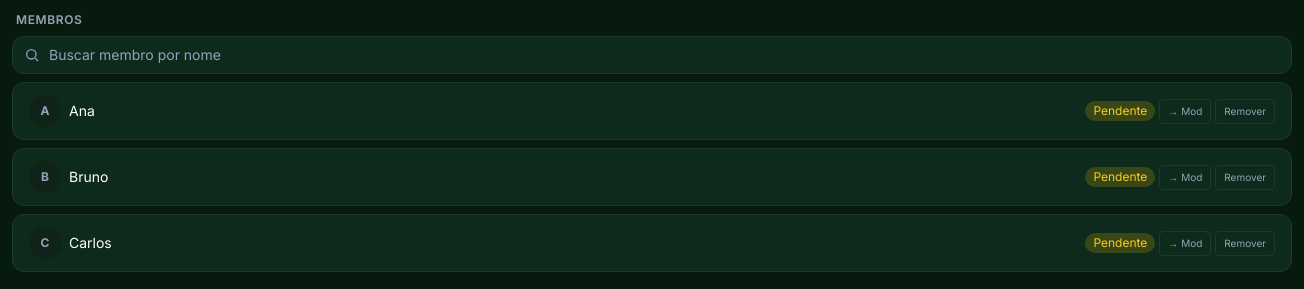
Test case: exibe mensagem quando a busca não encontra membros
Type "zzz" into the search field with placeholder "Buscar membro por nome" at (652, 55), box [12, 36, 1292, 74]
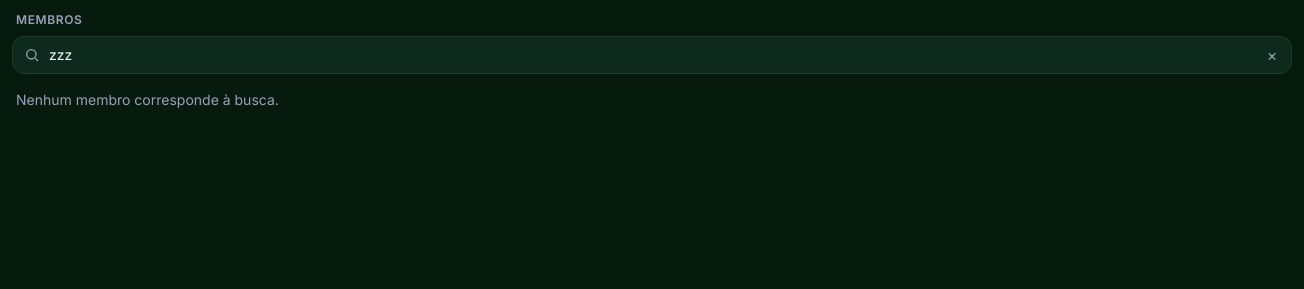
Now the text "Nenhum membro corresponde à busca." is shown, box [16, 91, 279, 108]
